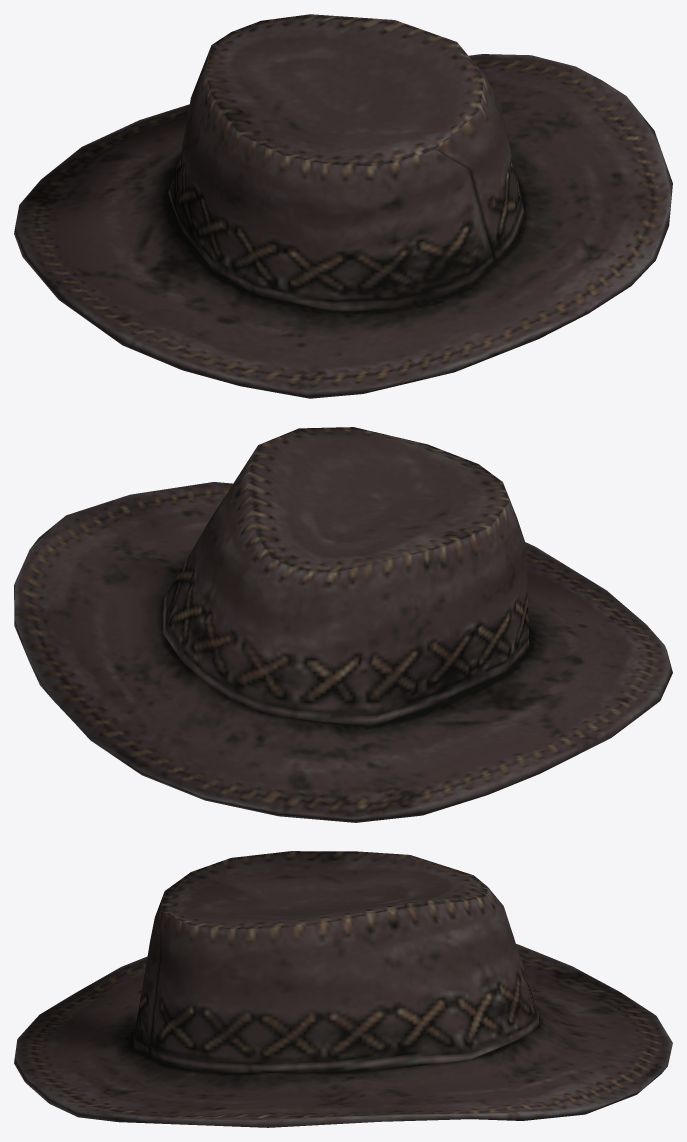
File: ManhunterHat_Bag.fbx
The picture shows the model from 3 angles, top to bottom: view 1: azimuth 30°, elevation 25°; view 2: azimuth 150°, elevation 25°; view 3: azimuth 270°, elevation 25°; orthographic projection. The views are drawn at different scales.
Visible parts, largest first — view 1: cross_mo_mat01_hat_adjusted; view 2: cross_mo_mat01_hat_adjusted; view 3: cross_mo_mat01_hat_adjusted.
Part boxes in pixels (x1,y1,x2,y2): cross_mo_mat01_hat_adjusted: (14, 14, 672, 398); cross_mo_mat01_hat_adjusted: (14, 427, 672, 822); cross_mo_mat01_hat_adjusted: (14, 851, 672, 1127).
Bounding box in the file's own units: 0.1923 × 0.0679 × 0.2003.
